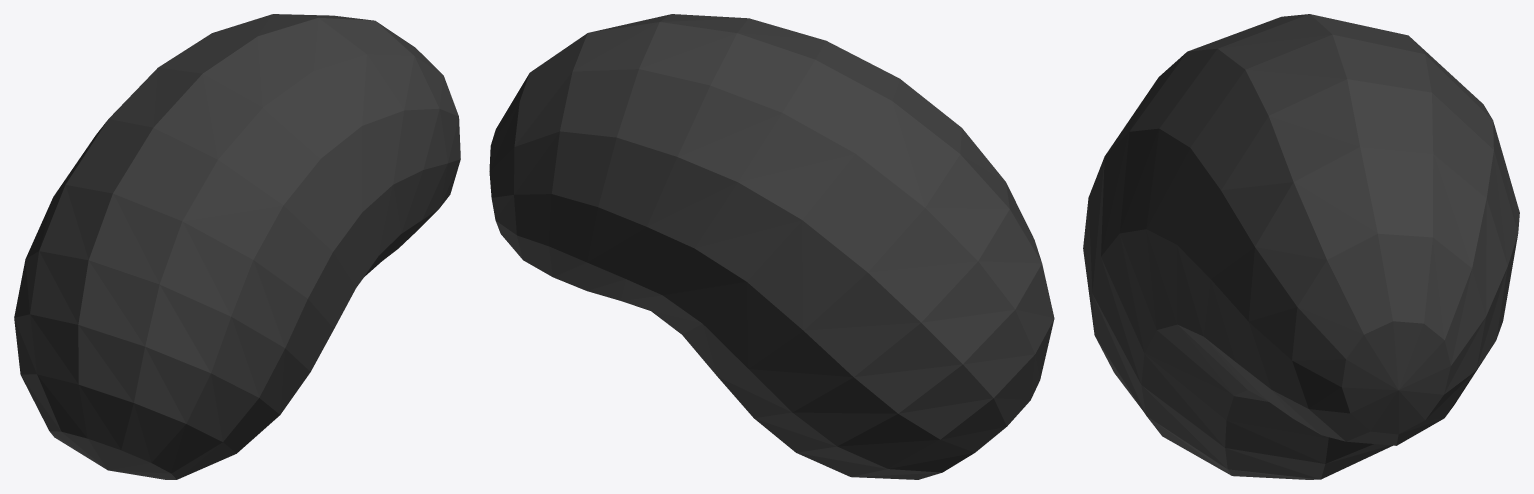
File: kidney_R_LP.glb
3 renders of one model, left to right at view 1: azimuth 30°, elevation 25°; view 2: azimuth 150°, elevation 25°; view 3: azimuth 270°, elevation 25°, orthographic. The views are drawn at different scales.
Parts seen in each view (by area): view 1: kidney_R_LP; view 2: kidney_R_LP; view 3: kidney_R_LP.
Part boxes in pixels (x1,y1,x2,y2): kidney_R_LP: [14, 14, 460, 479]; kidney_R_LP: [489, 14, 1054, 479]; kidney_R_LP: [1083, 14, 1519, 479].
Bounding box in the file's own units: 0.00375 × 0.00306 × 0.00239.
1 material, 1 textured.
